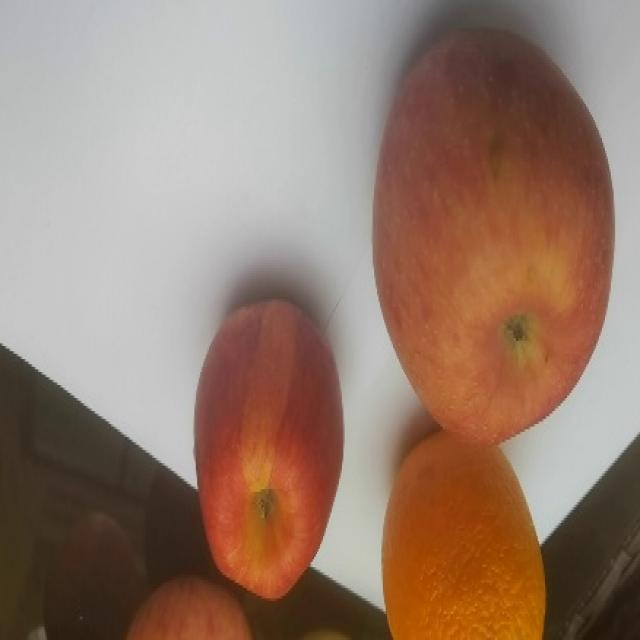Apple: (371, 25, 615, 446), (192, 297, 345, 600), (125, 574, 253, 639)
Orange: (380, 429, 547, 639)
